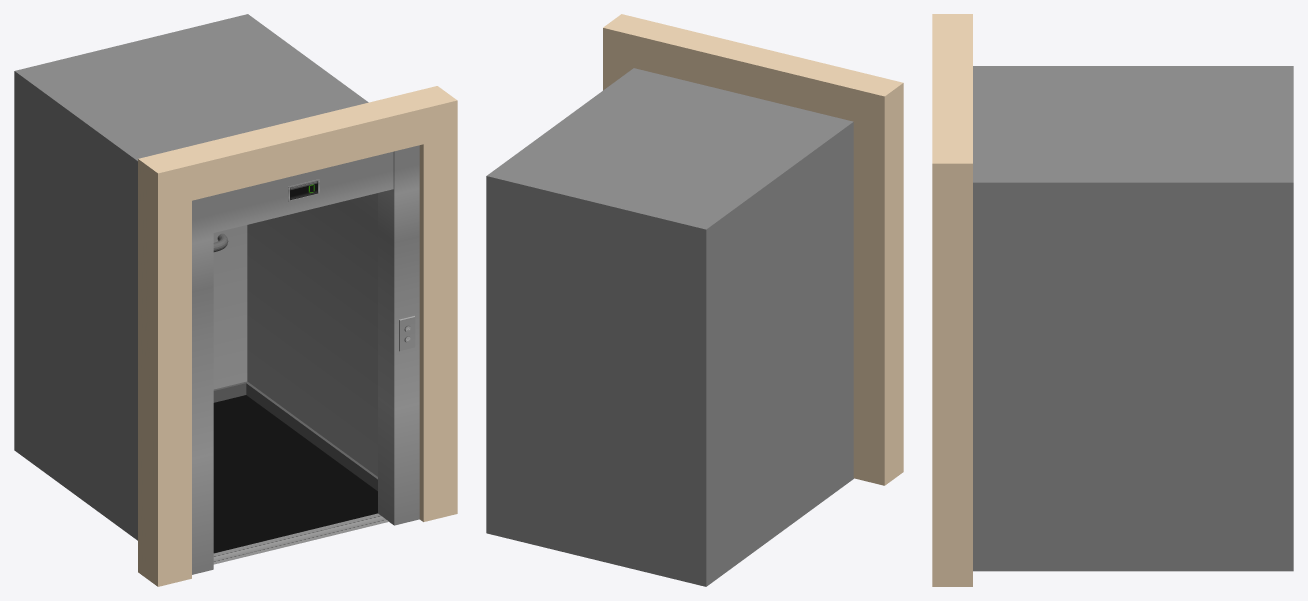
The model's file is elevator.obj.
The picture shows the model from 3 angles, left to right: view 1: azimuth 30°, elevation 25°; view 2: azimuth 150°, elevation 25°; view 3: azimuth 270°, elevation 25°; orthographic projection. The views are drawn at different scales.
Visible parts, largest first — view 1: Cube.003_Cube.008, Cube.002_Cube, wooden-frame_Cube.003, metallic-frame_Cube.002, Plane; view 2: Cube.003_Cube.008, wooden-frame_Cube.003; view 3: Cube.003_Cube.008, wooden-frame_Cube.003.
Boxes of the visible parts, <box> form: Cube.003_Cube.008: <box>14,14,368,540</box>; Cube.002_Cube: <box>213,193,377,553</box>; wooden-frame_Cube.003: <box>138,86,457,586</box>; metallic-frame_Cube.002: <box>192,145,419,574</box>; Plane: <box>213,513,388,564</box>; Cube.003_Cube.008: <box>486,68,853,586</box>; wooden-frame_Cube.003: <box>603,14,903,485</box>; Cube.003_Cube.008: <box>973,66,1293,571</box>; wooden-frame_Cube.003: <box>932,14,972,586</box>.
Size of the model in its own units: 186 by 245 by 190.
Materials: 11 (4 with a texture image).
